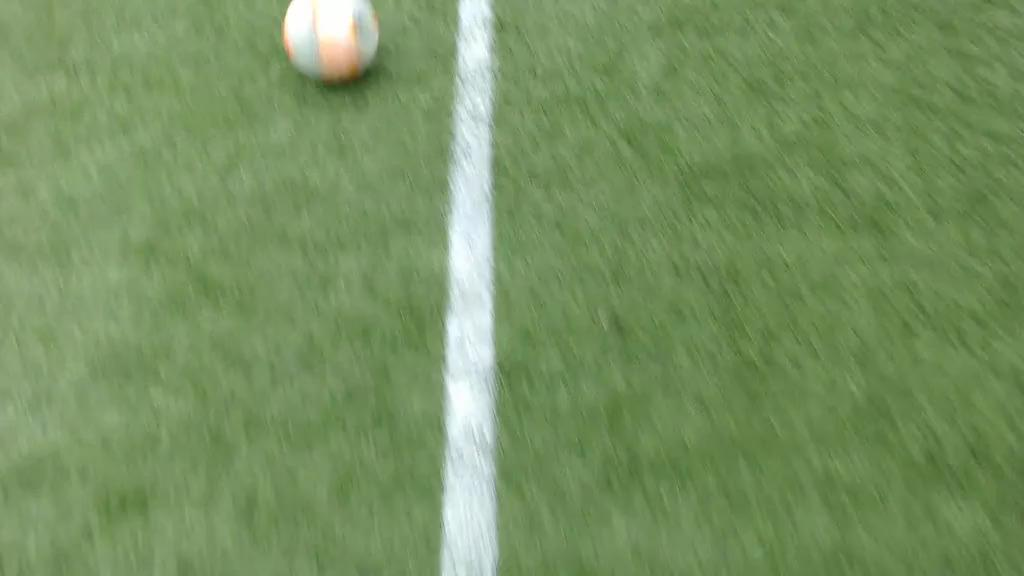ball: (281, 0, 380, 86)
